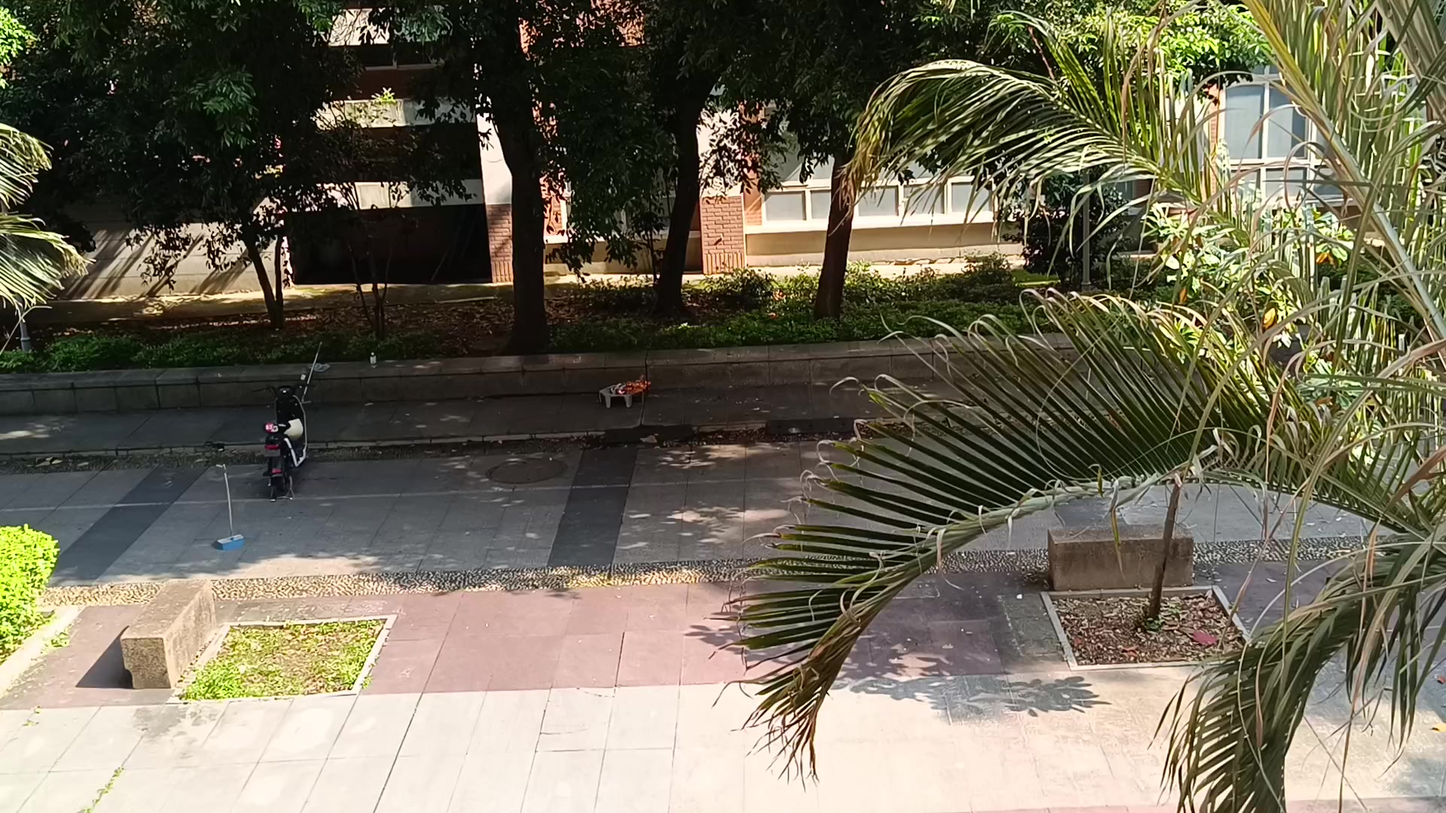fire: (622, 378, 650, 390)
